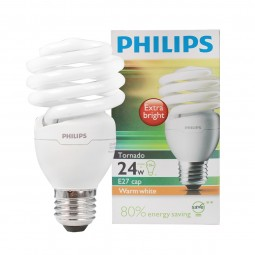Light_bulb: (23, 34, 129, 236)
